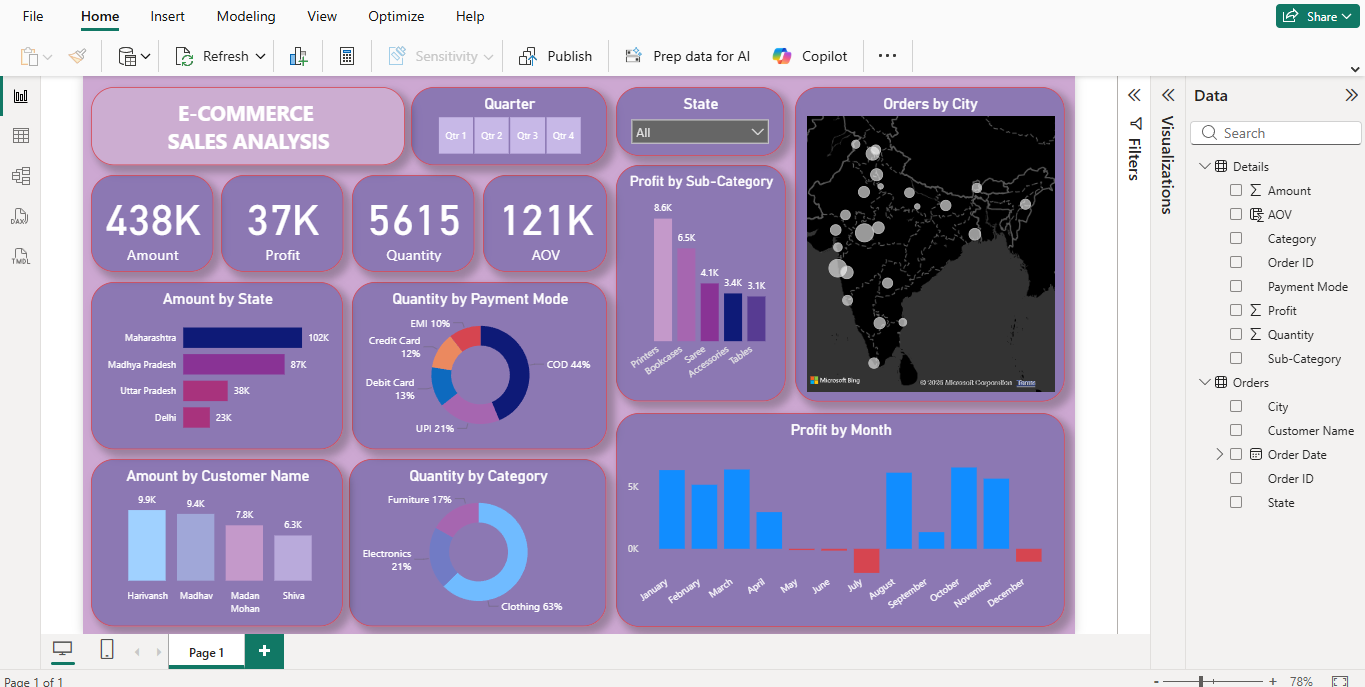

The page's visual inventory and layout, read from the dashboard file:
{"tool":"powerbi","page":{"name":"Page 1","canvas":[1280,720],"ordinal":0},"visuals":[{"type":"textbox","box":[9.9,14.2,404.7,100.8],"z":0},{"type":"columnChart","fields":{"Y":["Sum(Details.Profit)"],"Category":["Orders.Order Date.Variation.Date Hierarchy.Month"]},"box":[687.3,434.6,579.4,275.5],"z":1000},{"type":"columnChart","fields":{"Category":["Details.Sub-Category"],"Y":["Sum(Details.Profit)"]},"box":[687.3,115,218.7,305.3],"z":2000},{"type":"donutChart","fields":{"Category":["Details.Category"],"Y":["Sum(Details.Quantity)"]},"box":[343.7,494.2,332.3,215.9],"z":3000},{"type":"pieChart","fields":{"Y":["Sum(Details.Quantity)"],"Category":["Details.PaymentMode"]},"box":[346.5,265.6,329.5,215.9],"z":4000},{"type":"card","fields":{"Values":["Sum(Details.Amount)"]},"box":[9.9,127.8,157.6,125],"z":5000},{"type":"card","fields":{"Values":["Sum(Details.Profit)"]},"box":[178.5,127.8,157.6,125],"z":6000},{"type":"card","fields":{"Values":["Sum(Details.Quantity)"]},"box":[347,127.8,157.6,125],"z":7000},{"type":"card","fields":{"Values":["Sum(Details.AOV)"]},"box":[515.5,127.8,160.5,125],"z":8000},{"type":"barChart","fields":{"Category":["Orders.State"],"Y":["Sum(Details.Amount)"]},"box":[9.9,265.6,325.2,215.9],"z":9000},{"type":"columnChart","fields":{"Category":["Orders.Customer Name"],"Y":["Sum(Details.Amount)"]},"box":[10,494.2,325,216],"z":10000},{"type":"slicer","title":"Quarter","fields":{"Values":["Orders.Order Date.Variation.Date Hierarchy.Quarter"]},"box":[423.2,14.2,252.8,100.8],"z":11000},{"type":"slicer","title":"State","fields":{"Values":["Orders.State"]},"box":[687.3,14.2,217.3,89.5],"z":12000},{"type":"map","title":"Orders by City","fields":{"Category":["Orders.City"],"Size":["CountNonNull(Orders.Order ID)"]},"box":[918.8,14.2,347.9,406.2],"z":13000}]}

Visuals, with their boxes on the page's 1280x720 design canvas (x1, y1, x2, y2). These are canvas units, not pixel positions in the 1365x687 screenshot, which may show the page scaled, cropped or inside an application window:
textbox: box=[10, 14, 415, 115]
columnChart - Sum(Details.Profit) x Orders.Order Date.Variation.Date Hierarchy.Month: box=[687, 435, 1267, 710]
columnChart - Details.Sub-Category x Sum(Details.Profit): box=[687, 115, 906, 420]
donutChart - Details.Category x Sum(Details.Quantity): box=[344, 494, 676, 710]
pieChart - Sum(Details.Quantity) x Details.PaymentMode: box=[346, 266, 676, 482]
card - Sum(Details.Amount): box=[10, 128, 168, 253]
card - Sum(Details.Profit): box=[178, 128, 336, 253]
card - Sum(Details.Quantity): box=[347, 128, 505, 253]
card - Sum(Details.AOV): box=[516, 128, 676, 253]
barChart - Orders.State x Sum(Details.Amount): box=[10, 266, 335, 482]
columnChart - Orders.Customer Name x Sum(Details.Amount): box=[10, 494, 335, 710]
"Quarter" slicer: box=[423, 14, 676, 115]
"State" slicer: box=[687, 14, 905, 104]
"Orders by City" map: box=[919, 14, 1267, 420]
